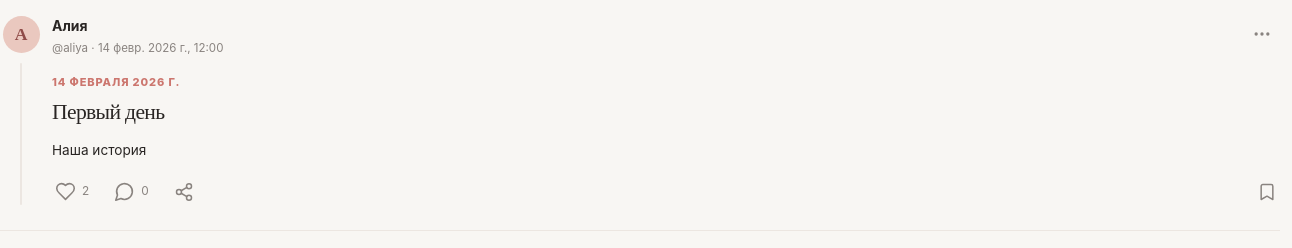
PostCard › keeps a saved post marked after a successful request
Click the button named "Сохранить". click: [1267, 192]
box: left=1254, top=179, right=1280, bottom=205
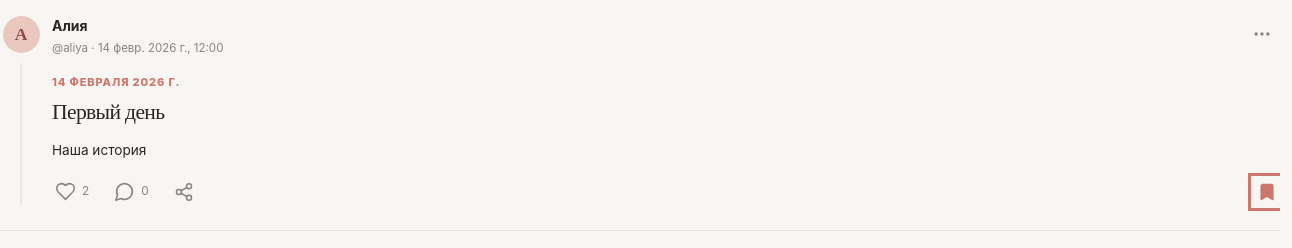
Now the button named "Убрать из избранного" is shown, box left=1254, top=179, right=1280, bottom=205
